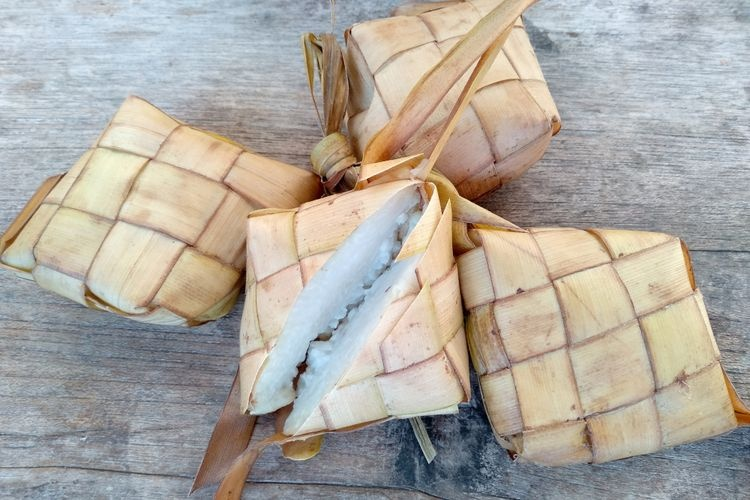ketupat: (1, 94, 320, 327), (457, 225, 749, 468), (342, 1, 560, 187)
